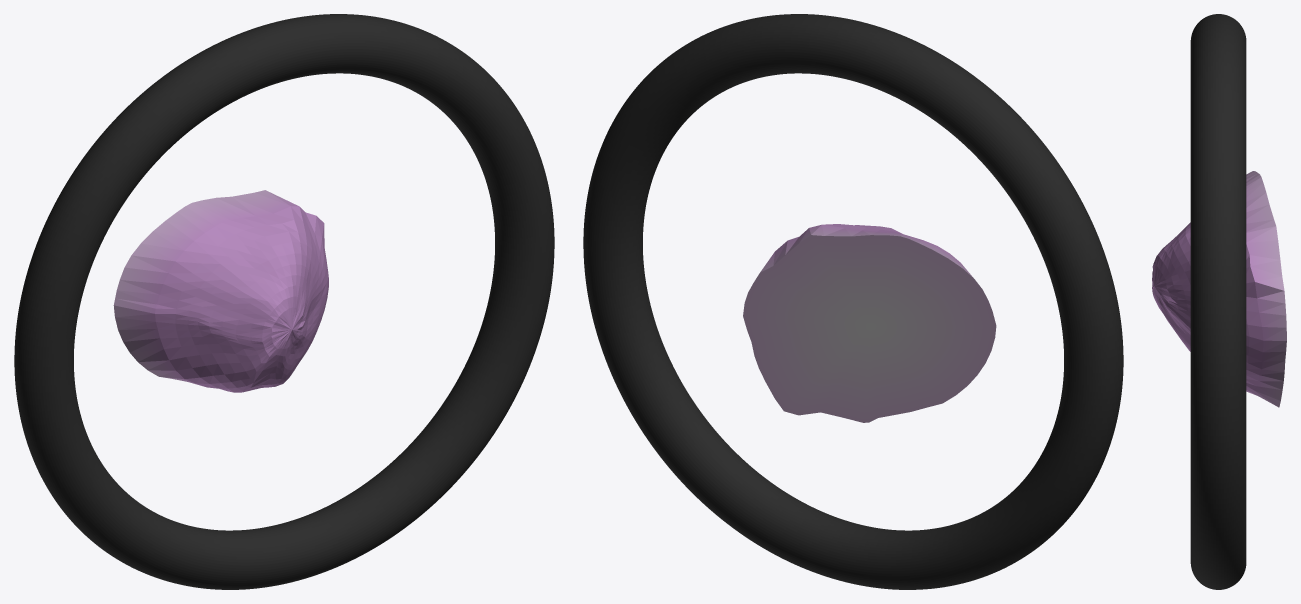
The picture shows the model from 3 angles, left to right: view 1: azimuth 30°, elevation 25°; view 2: azimuth 150°, elevation 25°; view 3: azimuth 270°, elevation 25°; orthographic projection. The views are drawn at different scales.
Visible parts, largest first — view 1: fixed_CAD_Ring, polyp_body_inferred_base_gray; view 2: fixed_CAD_Ring, polyp_body_inferred_base_gray; view 3: fixed_CAD_Ring, polyp_body_inferred_base_gray.
Part boxes in pixels (left/top/right/bottom): fixed_CAD_Ring: left=14, top=14, right=554, bottom=589; polyp_body_inferred_base_gray: left=113, top=190, right=328, bottom=392; fixed_CAD_Ring: left=583, top=14, right=1123, bottom=589; polyp_body_inferred_base_gray: left=743, top=224, right=996, bottom=422; fixed_CAD_Ring: left=1190, top=14, right=1246, bottom=589; polyp_body_inferred_base_gray: left=1152, top=171, right=1286, bottom=407.
Size of the model in its own units: 0.0124 by 0.0124 by 0.0029.
